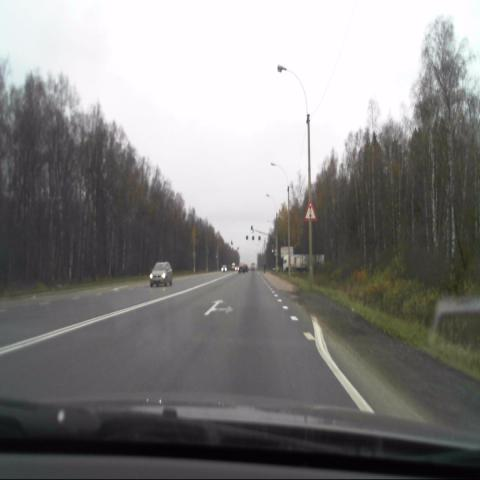1_8: (303, 201, 317, 223)
